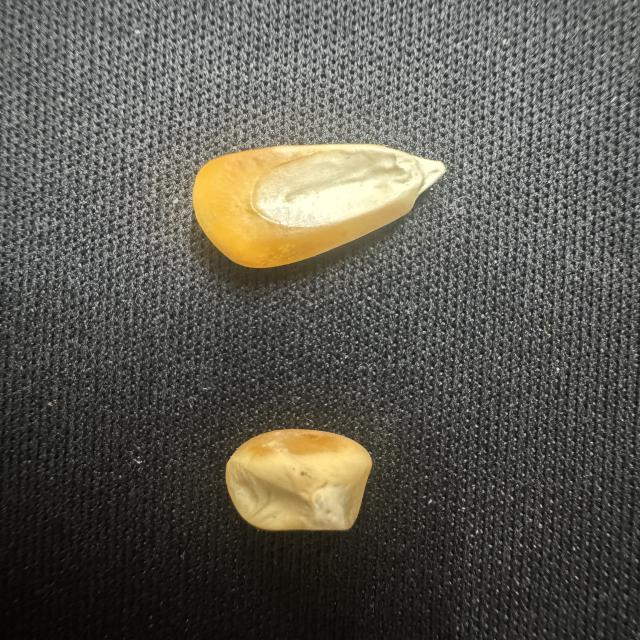Bad-Seed: (219, 421, 384, 541)
Good-Seed: (189, 132, 455, 280)
